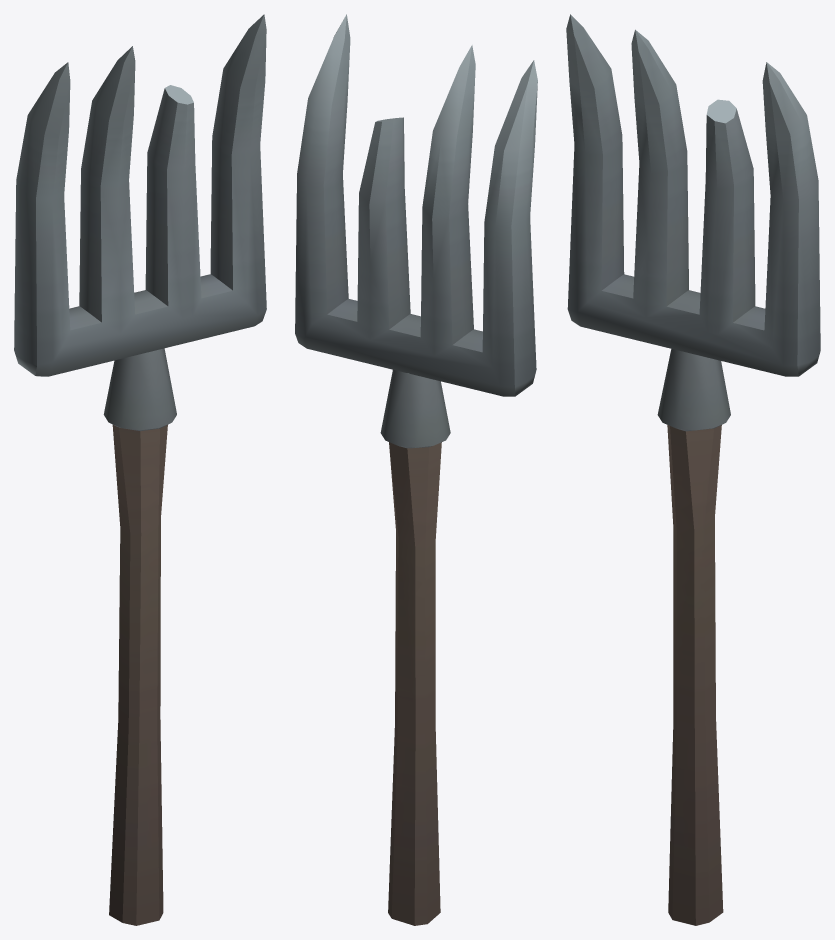
The model's file is pitchfork.glb.
The picture shows the model from 3 angles, left to right: view 1: azimuth 30°, elevation 25°; view 2: azimuth 150°, elevation 25°; view 3: azimuth 330°, elevation 25°; orthographic projection. The views are drawn at different scales.
Parts seen in each view (by area): view 1: pitchfork; view 2: pitchfork; view 3: pitchfork.
Boxes of the visible parts, box(x1,y1,x2,y2) form: pitchfork: box(14, 14, 266, 925); pitchfork: box(295, 14, 537, 925); pitchfork: box(566, 14, 820, 925).
Size of the model in its own units: 0.6399 by 2.31 by 0.2044.
Materials: 1 (1 with a texture image).
